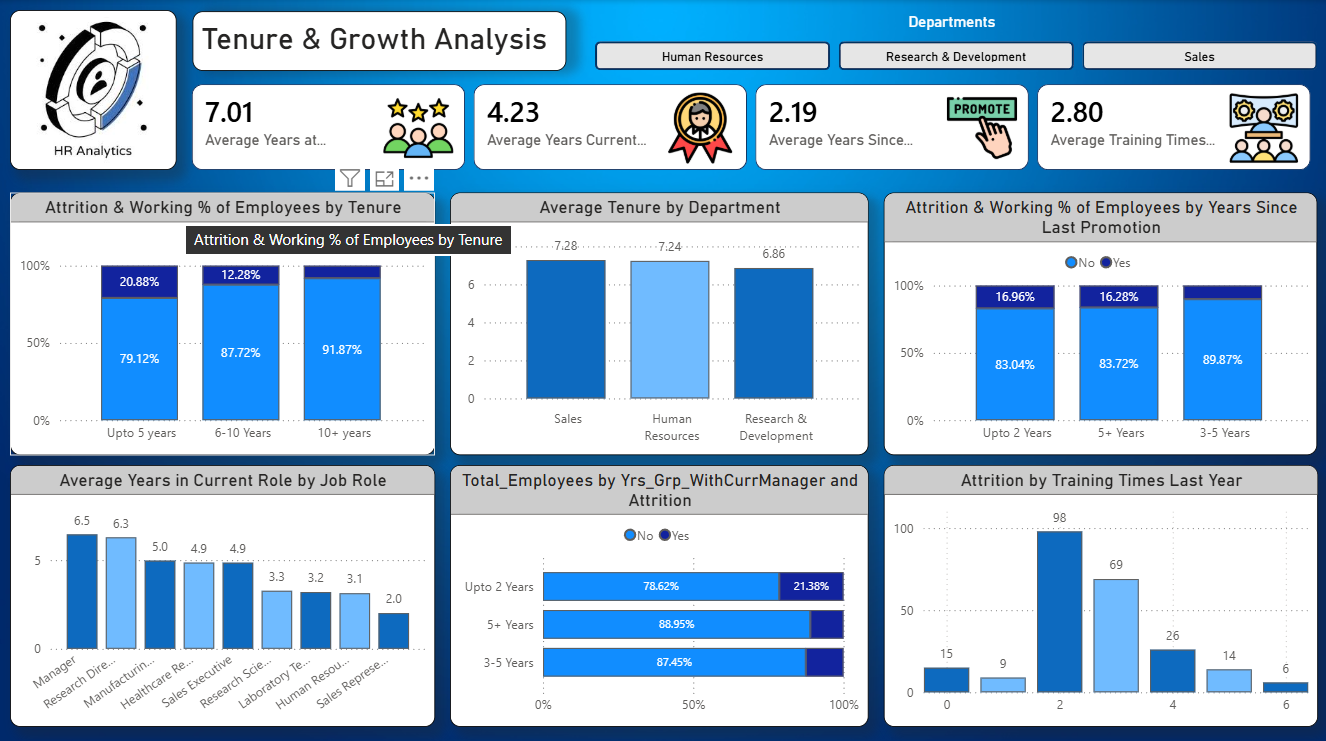

What the dashboard file says about the page in this screenshot:
{"tool":"powerbi","page":{"name":"Tenure & Growth","canvas":[1280,720],"ordinal":4},"visuals":[{"type":"textbox","box":[698.5,7.2,440.4,30.2],"z":0},{"type":"cardVisual","fields":{"Data":["HR_Employee_Attrition.Avg_Years_at_Company","HR_Employee_Attrition.Avg_Years_Current_role","HR_Employee_Attrition.Avg_YearsSinceLastPromotion","HR_Employee_Attrition.Avg_Training_Times_Last_Year"]},"box":[181,77.2,1090.6,91.7],"z":1000},{"type":"textbox","box":[185.8,10.9,360.7,57.9],"z":2000},{"type":"advancedSlicerVisual","title":"Department slicer","fields":{"Values":["HR_Employee_Attrition.Department"]},"box":[574.3,39.8,697.3,29],"z":3000},{"type":"image","box":[9.7,9.7,160.5,154.4],"z":4000},{"type":"hundredPercentStackedColumnChart","title":"Attrition & Working % of Employees by Tenure","fields":{"Y":["HR_Employee_Attrition.Total_Employees"],"Category":["HR_Employee_Attrition.Yrs_at_cmp_grp"],"Series":["HR_Employee_Attrition.Attrition"]},"box":[9.7,185.8,410.2,253.4],"z":5000},{"type":"clusteredColumnChart","title":"Average Tenure by Department","fields":{"Category":["HR_Employee_Attrition.Department"],"Y":["HR_Employee_Attrition.Avg_Years_at_Company"]},"box":[434.3,185.8,404.2,253.4],"z":6000},{"type":"hundredPercentStackedColumnChart","title":"Attrition & Working % of Employees by Years Since Last Promotion","fields":{"Category":["HR_Employee_Attrition.Yrs_Grp_SinceLastPromotion"],"Y":["HR_Employee_Attrition.Total_Employees"],"Series":["HR_Employee_Attrition.Attrition"]},"box":[853,185.8,418.6,253.4],"z":7000},{"type":"clusteredColumnChart","title":"Average Years in Current Role by Job Role","fields":{"Category":["HR_Employee_Attrition.JobRole"],"Y":["HR_Employee_Attrition.Avg_Years_Current_role"]},"box":[10,449,410,253],"z":8000},{"type":"hundredPercentStackedBarChart","fields":{"Category":["HR_Employee_Attrition.Yrs_Grp_WithCurrManager"],"Y":["HR_Employee_Attrition.Total_Employees"],"Series":["HR_Employee_Attrition.Attrition"]},"box":[434,449,404,253],"z":9000},{"type":"clusteredColumnChart","title":"Attrition by Training Times Last Year","fields":{"Category":["HR_Employee_Attrition.TrainingTimesLastYear"],"Y":["HR_Employee_Attrition.Attrition_count"]},"box":[853,449,419,253],"z":10000}]}

Visuals, with their boxes in screenshot pixels (x1, y1, x2, y2), scaled from the page's 1280x720 canvas onto the 1326x741 screenshot:
textbox: <region>724, 7, 1180, 38</region>
cardVisual - HR_Employee_Attrition.Avg_Years_at_Company x HR_Employee_Attrition.Avg_Years_Current_role: <region>188, 79, 1317, 174</region>
textbox: <region>192, 11, 566, 71</region>
"Department slicer" advancedSlicerVisual: <region>595, 41, 1317, 71</region>
image: <region>10, 10, 176, 169</region>
"Attrition & Working % of Employees by Tenure" hundredPercentStackedColumnChart: <region>10, 191, 435, 452</region>
"Average Tenure by Department" clusteredColumnChart: <region>450, 191, 869, 452</region>
"Attrition & Working % of Employees by Years Since Last Promotion" hundredPercentStackedColumnChart: <region>884, 191, 1317, 452</region>
"Average Years in Current Role by Job Role" clusteredColumnChart: <region>10, 462, 435, 722</region>
hundredPercentStackedBarChart - HR_Employee_Attrition.Yrs_Grp_WithCurrManager x HR_Employee_Attrition.Total_Employees: <region>450, 462, 868, 722</region>
"Attrition by Training Times Last Year" clusteredColumnChart: <region>884, 462, 1318, 722</region>
